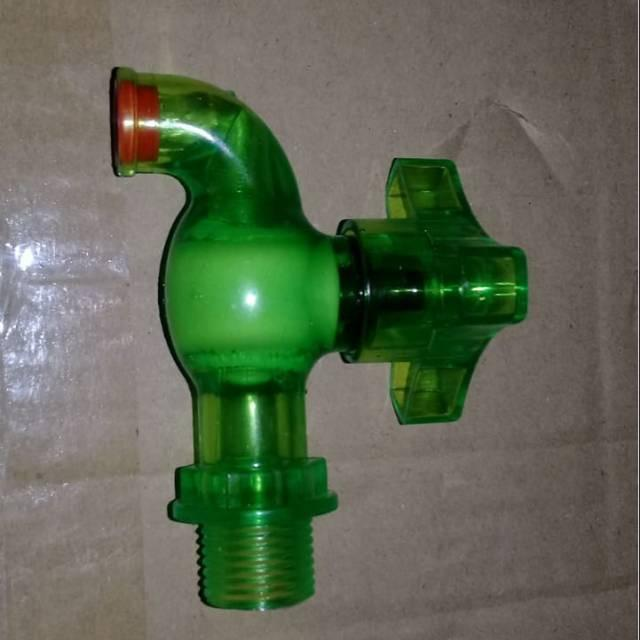PVC: (65, 0, 539, 640)
